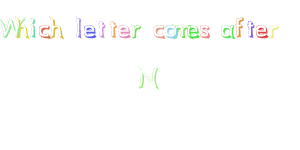N: (130, 64, 167, 92)
W: (1, 17, 19, 42)
a: (220, 22, 234, 42)
c: (38, 17, 51, 44), (151, 22, 166, 41)
e: (84, 20, 98, 43), (186, 19, 200, 42), (255, 21, 269, 42), (118, 22, 131, 43)
f: (233, 14, 246, 41)
h: (50, 14, 67, 44), (16, 14, 29, 42)
i: (28, 16, 40, 41)
l: (74, 13, 84, 43)
m: (174, 21, 192, 41)
o: (164, 20, 177, 43)
r: (130, 18, 144, 39), (269, 22, 283, 43)
s: (198, 21, 214, 42)
t: (105, 15, 118, 41), (96, 18, 109, 43), (245, 18, 256, 41)
